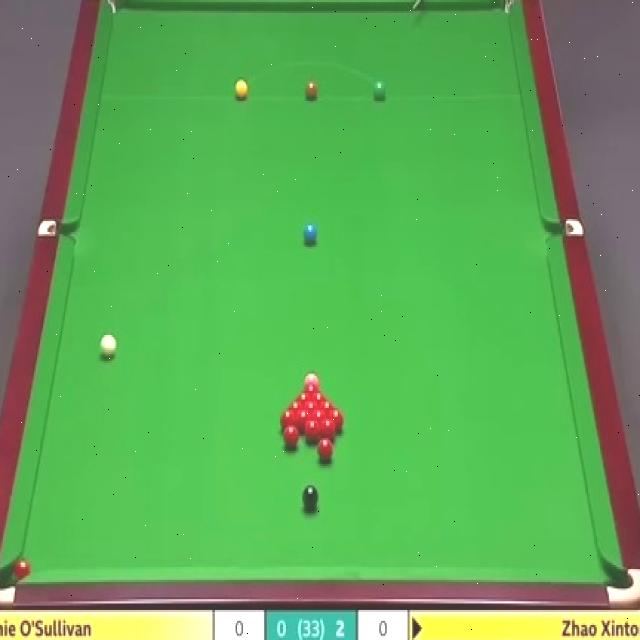black-ball: (302, 485, 320, 513)
blue-ball: (302, 222, 318, 247)
brown-ball: (305, 79, 318, 100)
green-ball: (372, 79, 386, 101)
pink-ball: (304, 371, 321, 386)
red-ball: (14, 556, 33, 585), (317, 439, 336, 464), (319, 418, 336, 442), (304, 419, 320, 442), (283, 425, 299, 447), (280, 408, 297, 426), (312, 411, 327, 431), (296, 410, 311, 429), (328, 411, 344, 427), (287, 400, 304, 411), (303, 401, 320, 411), (320, 402, 336, 411), (312, 392, 328, 401), (303, 384, 320, 392), (296, 392, 311, 401)
white-ball: (99, 333, 118, 358)
yellow-ball: (235, 80, 248, 101)
